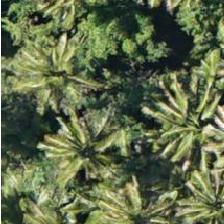coconut_tree: (18, 20, 108, 110), (30, 101, 120, 191), (156, 90, 223, 180), (82, 163, 172, 223), (22, 176, 112, 223)
